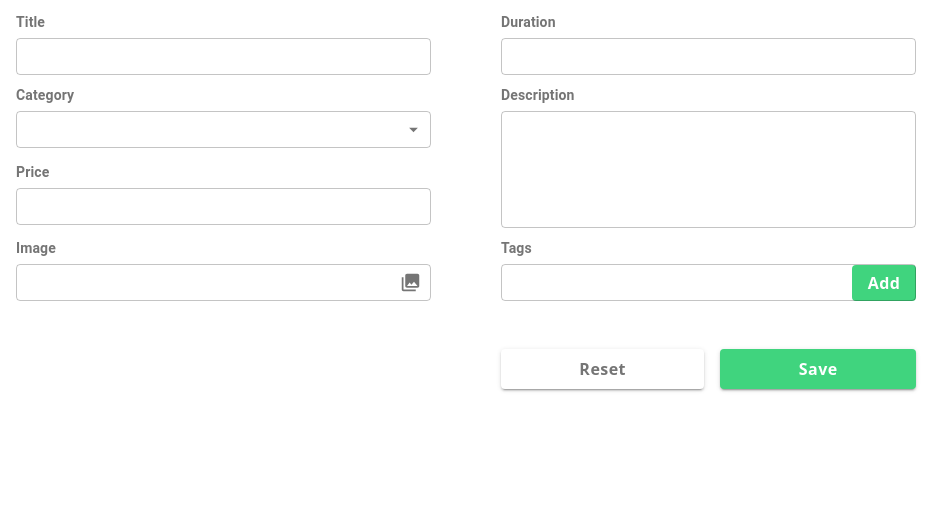
Test: coupon list component › tags input › duplicate error message
Type "tag" into the field labelled "Tags" at (672, 283), box [501,264,844,301]
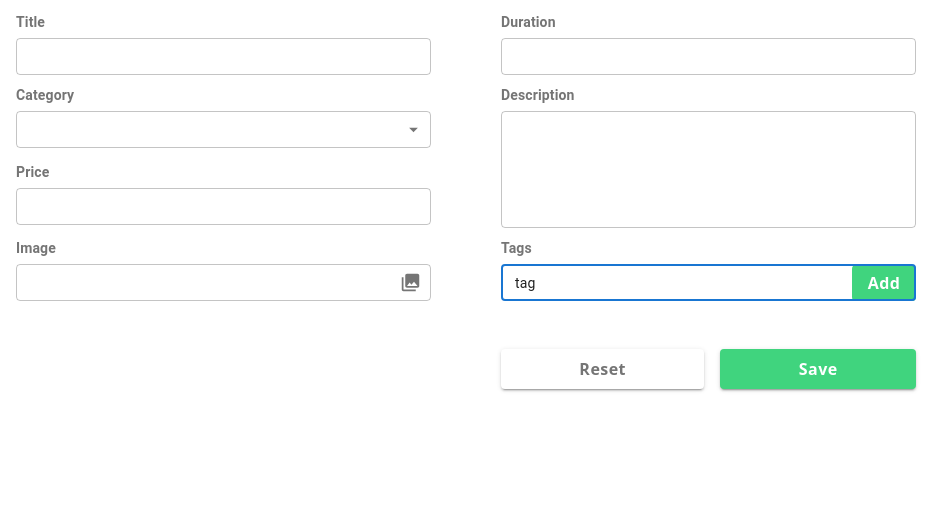
Click the button "Add" at (884, 283), box [852,265,916,301]
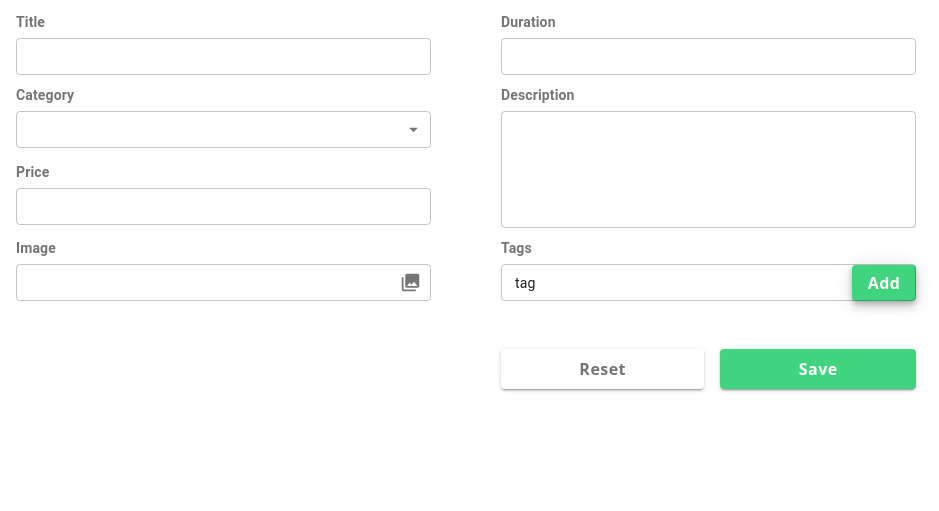
Click the button "Save" at (818, 369), box [720,349,916,389]
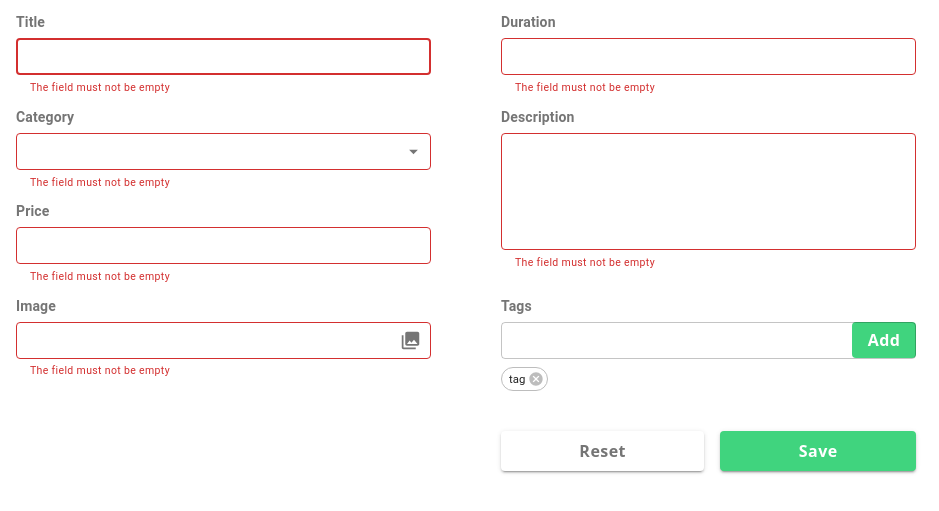
Expected: the text "The tag list can't contain duplicates" is not shown
Result: the text "tag" is shown at [509,372,525,386]
Type "tag" into the field labelled "Tags" at (672, 340), box [501,322,844,359]
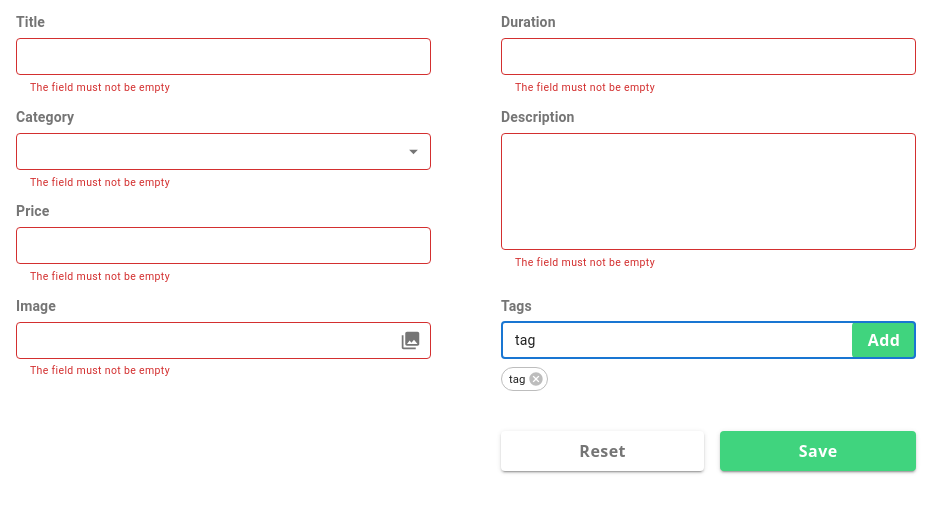
Click the button "Add" at (884, 340), box [852,322,916,358]
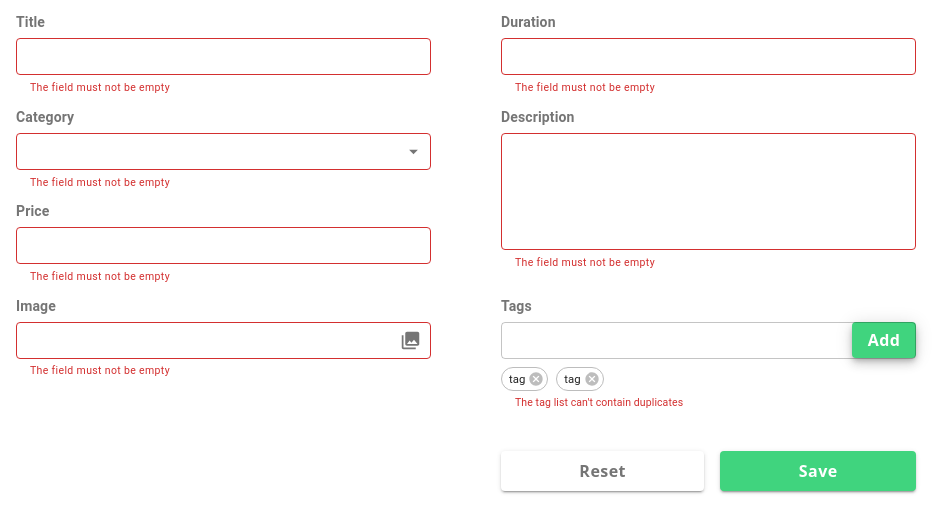
Result: the text "The tag list can't contain duplicates" is shown at [515,396,683,409]
